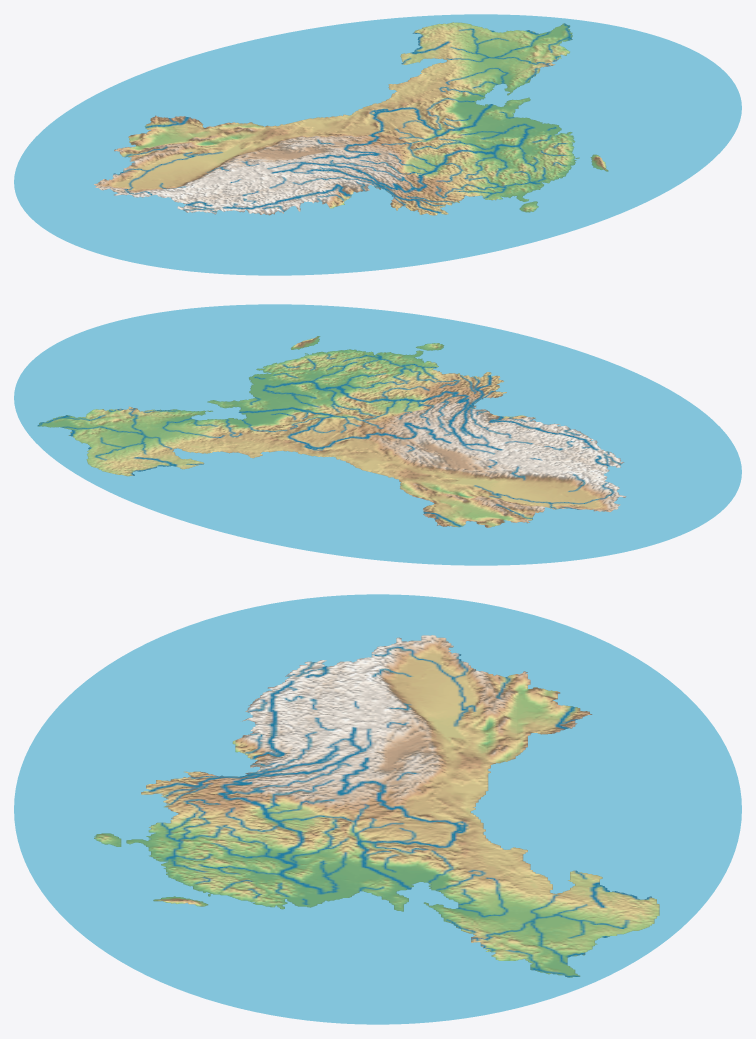
Rendered from CHN-terrain.glb.
The picture shows the model from 3 angles, top to bottom: view 1: azimuth 30°, elevation 25°; view 2: azimuth 150°, elevation 25°; view 3: azimuth 270°, elevation 25°; orthographic projection. The views are drawn at different scales.
Parts seen in each view (by area): view 1: Relevo com hidrografia; view 2: Relevo com hidrografia; view 3: Relevo com hidrografia.
Boxes of the visible parts, x1,y1,x2,y2 form: Relevo com hidrografia: (14,14,741,275); Relevo com hidrografia: (14,304,741,565); Relevo com hidrografia: (14,594,741,1024).
Bounding box in the file's own units: 2.05 × 0.0209 × 1.47.
2 materials, 1 textured.
